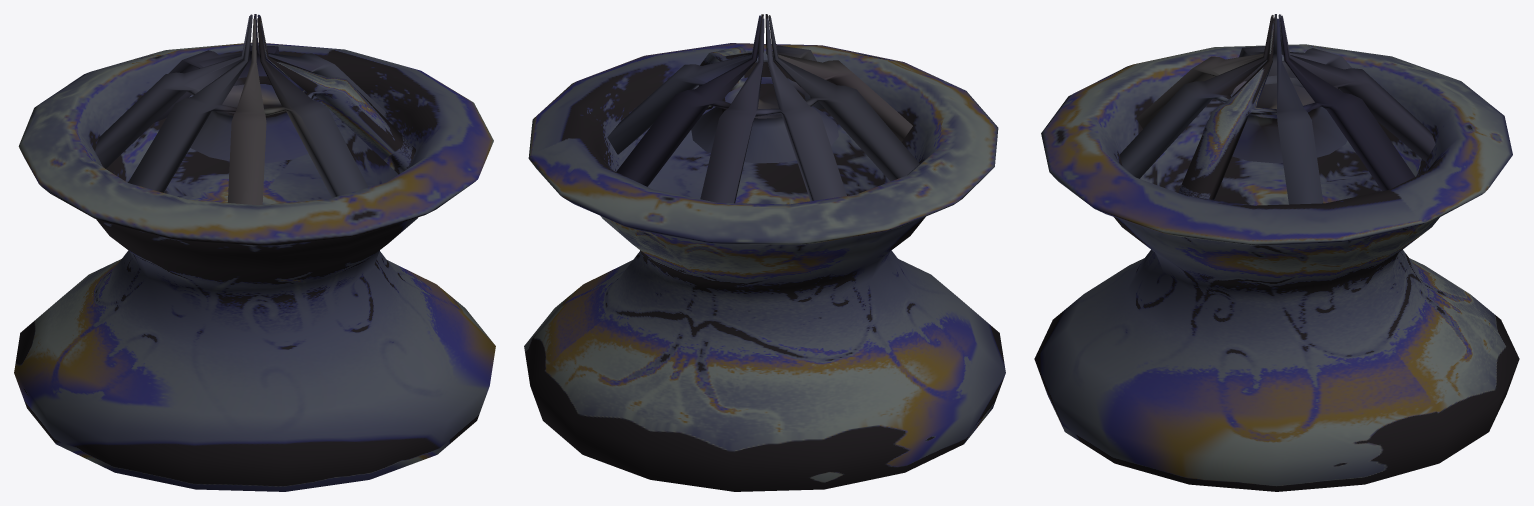
File: FONTE.fbx
The picture shows the model from 3 angles, left to right: view 1: azimuth 30°, elevation 25°; view 2: azimuth 150°, elevation 25°; view 3: azimuth 270°, elevation 25°; orthographic projection.
Parts seen in each view (by area): view 1: Cilindro; view 2: Cilindro; view 3: Cilindro.
Boxes of the visible parts, <box> form: Cilindro: <box>14,14,495,491</box>; Cilindro: <box>524,14,1005,491</box>; Cilindro: <box>1034,14,1519,491</box>.
Size of the model in its own units: 4607 by 3965 by 4607.
